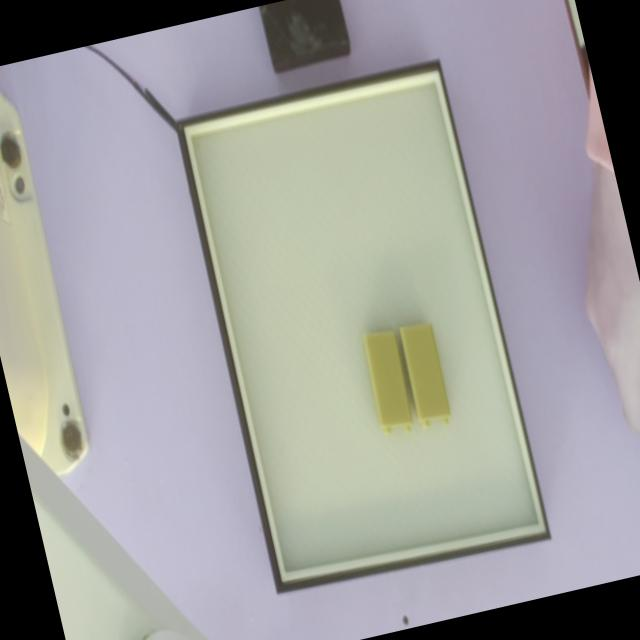bateria: (397, 322, 449, 427), (362, 328, 414, 433)
mesa: (174, 59, 551, 594)
